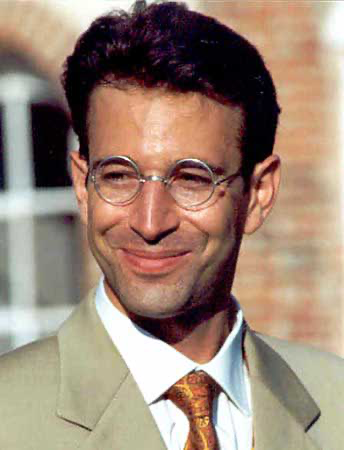Face: (83, 116, 246, 320)
